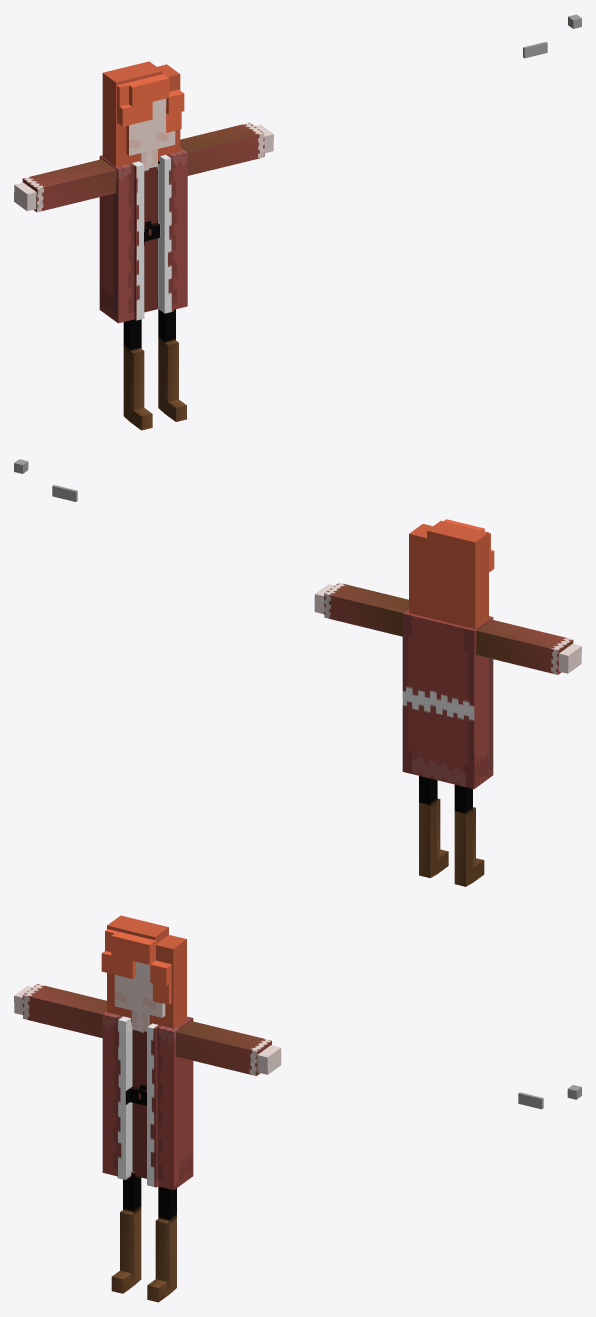
The model's file is girl3.fbx.
3 renders of one model, top to bottom at view 1: azimuth 30°, elevation 25°; view 2: azimuth 150°, elevation 25°; view 3: azimuth 330°, elevation 25°, orthographic. The views are drawn at different scales.
Visible parts, largest first — view 1: pCube5, pCube3, pCube4, pCube17, pCube12, pCube7, pCube16; view 2: pCube5, pCube4, pCube17, pCube12, pCube7, pCube16, pCube18; view 3: pCube5, pCube3, pCube4, pCube12, pCube17, pCube7, pCube16, pCube13.
Part boxes in pixels (bbox=[...]): pCube5: bbox=[99, 147, 187, 323]; pCube3: bbox=[117, 74, 184, 167]; pCube4: bbox=[102, 61, 180, 166]; pCube17: bbox=[22, 159, 116, 212]; pCube12: bbox=[180, 122, 264, 175]; pCube7: bbox=[123, 319, 152, 430]; pCube16: bbox=[158, 309, 186, 421]; pCube5: bbox=[402, 609, 493, 788]; pCube4: bbox=[409, 520, 488, 628]; pCube17: bbox=[476, 619, 573, 674]; pCube12: bbox=[324, 582, 408, 636]; pCube7: bbox=[454, 784, 484, 886]; pCube16: bbox=[419, 776, 448, 878]; pCube18: bbox=[558, 643, 581, 673]; pCube5: bbox=[102, 1011, 193, 1189]; pCube3: bbox=[101, 929, 171, 1029]; pCube4: bbox=[107, 915, 186, 1028]; pCube12: bbox=[175, 1021, 271, 1075]; pCube17: bbox=[22, 984, 106, 1037]; pCube7: bbox=[111, 1171, 141, 1293]; pCube16: bbox=[147, 1186, 176, 1302]; pCube13: bbox=[257, 1045, 281, 1074].
Bounding box in the file's own units: 15.77 × 9.41 × 1.28.
Materials: 7 (6 with a texture image).
